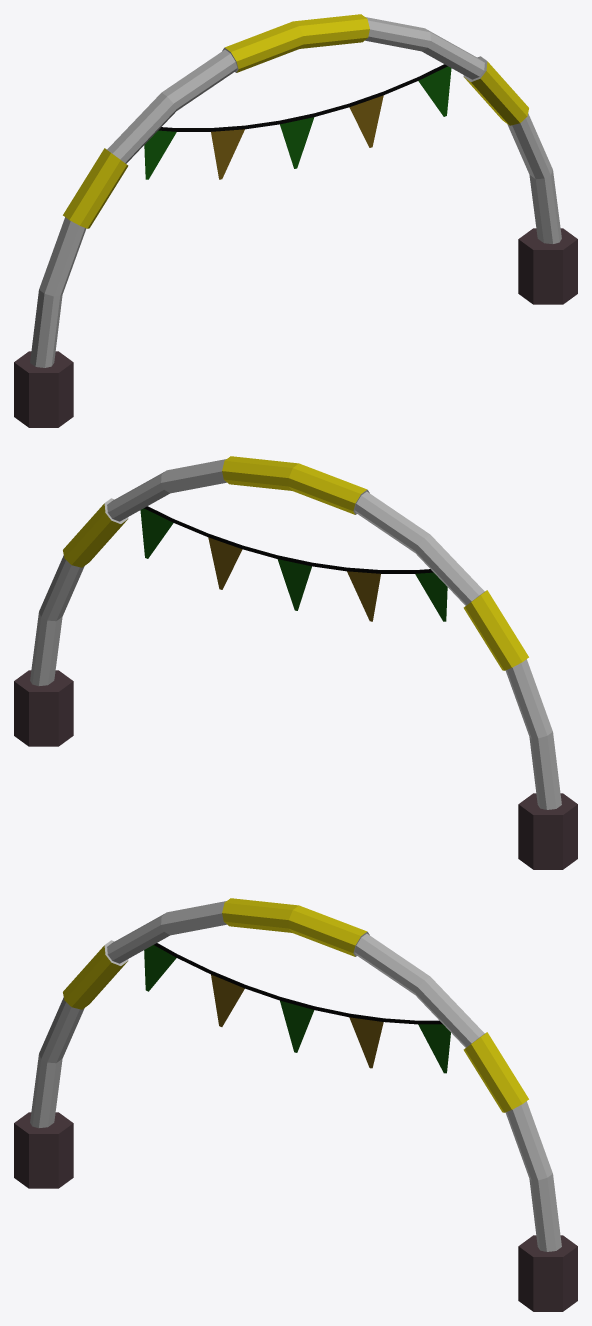
File: checkpoint.fbx
3 views of the same model, one above another, from view 1: azimuth 30°, elevation 25°; view 2: azimuth 150°, elevation 25°; view 3: azimuth 330°, elevation 25° (orthographic).
Visible parts, largest first — view 1: checkpoint-col; view 2: checkpoint-col; view 3: checkpoint-col.
Boxes of the visible parts, x1,y1,x2,y2 form: checkpoint-col: [14, 14, 577, 427]; checkpoint-col: [14, 456, 577, 869]; checkpoint-col: [14, 898, 577, 1311].
Size of the model in its own units: 1417 by 818 by 133.
